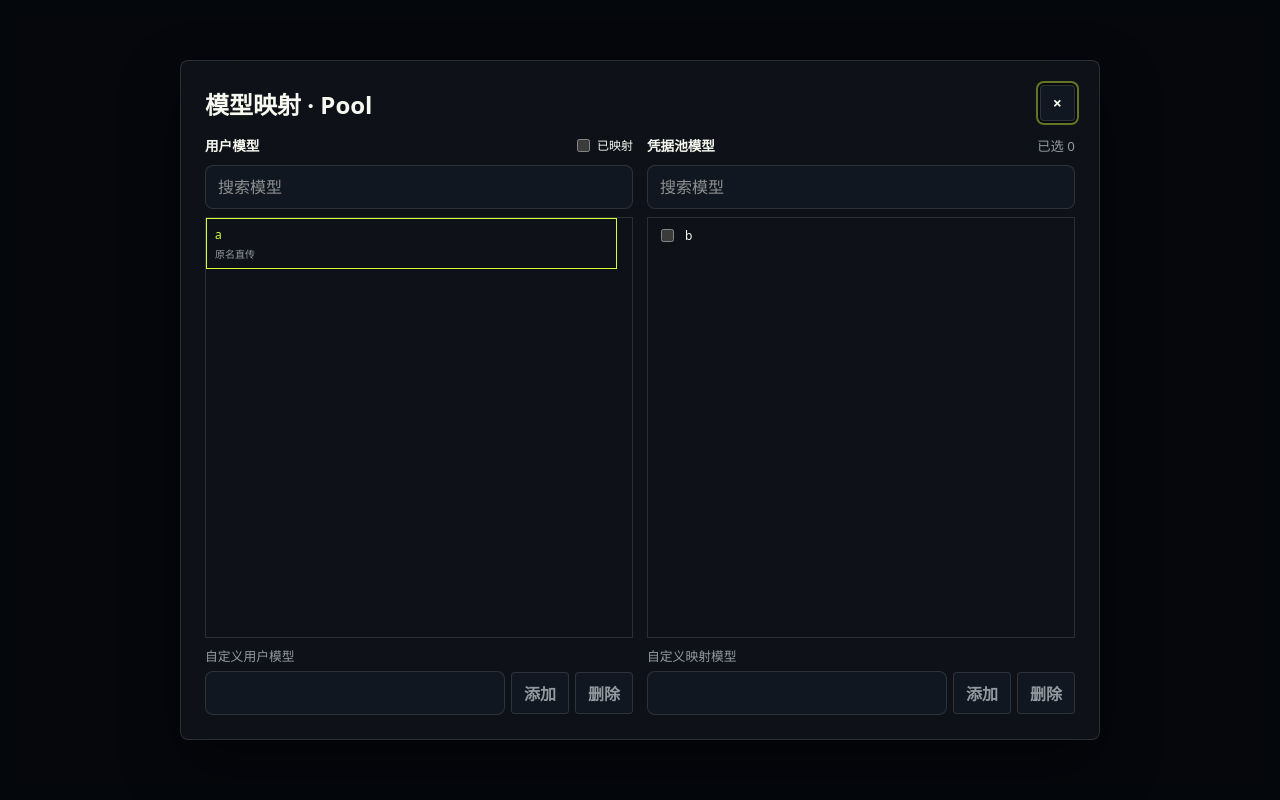
Test: adds and deletes custom mappings inline without a save button or mount-time writes
In the field named "自定义用户模型": [355, 693] box [205,671,505,715], type "custom-source"
Then press Enter
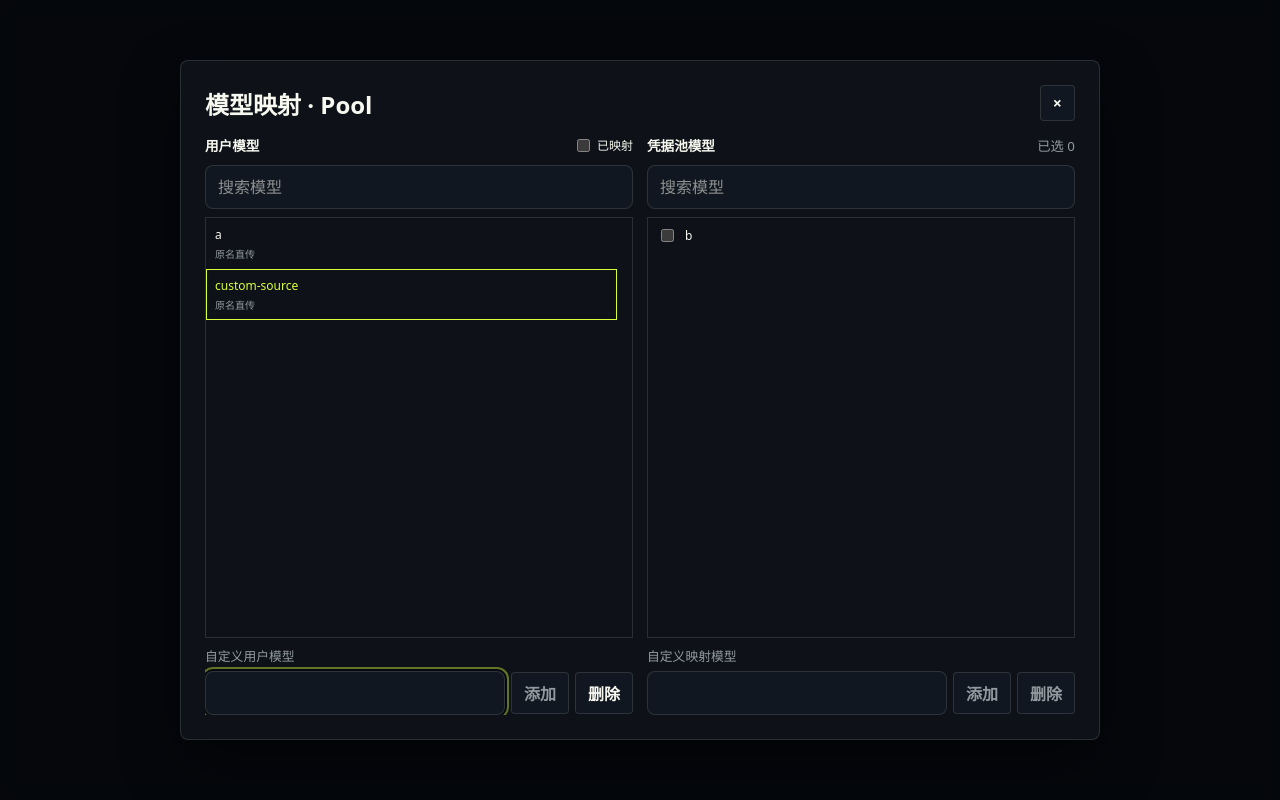
In the field named "自定义映射模型": [797, 693] box [647,671,947,715], type "custom-target"
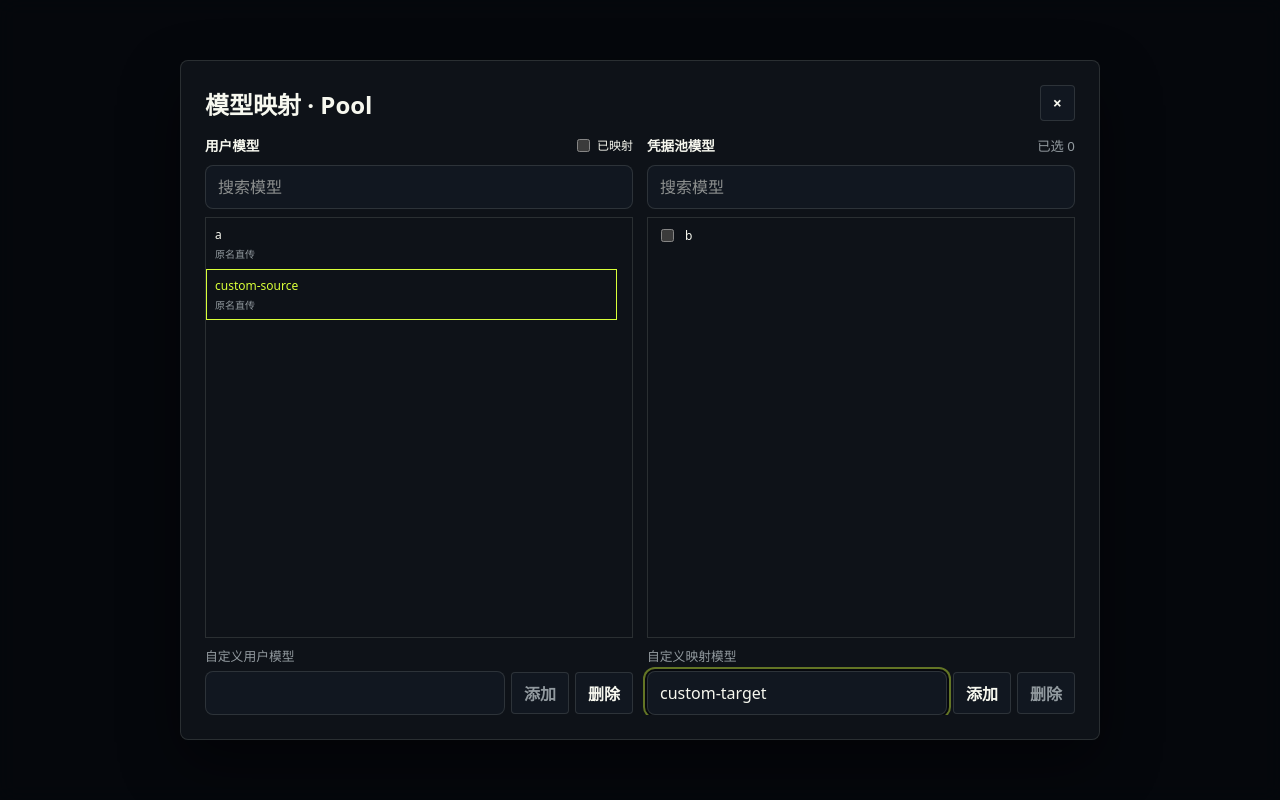
Click the button with aria-label "添加映射模型": [982, 693] box [953,672,1011,714]
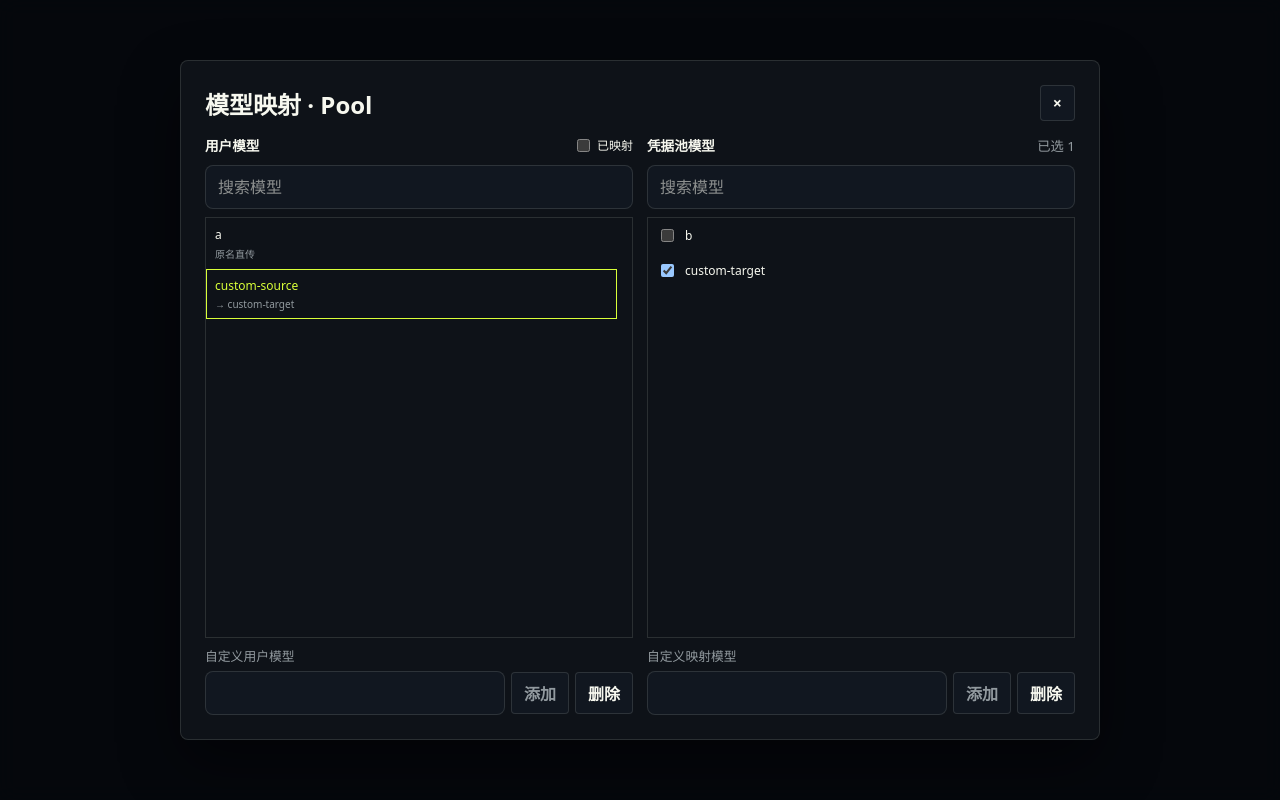
Click the button with aria-label "删除映射模型": [1046, 693] box [1017,672,1075,714]
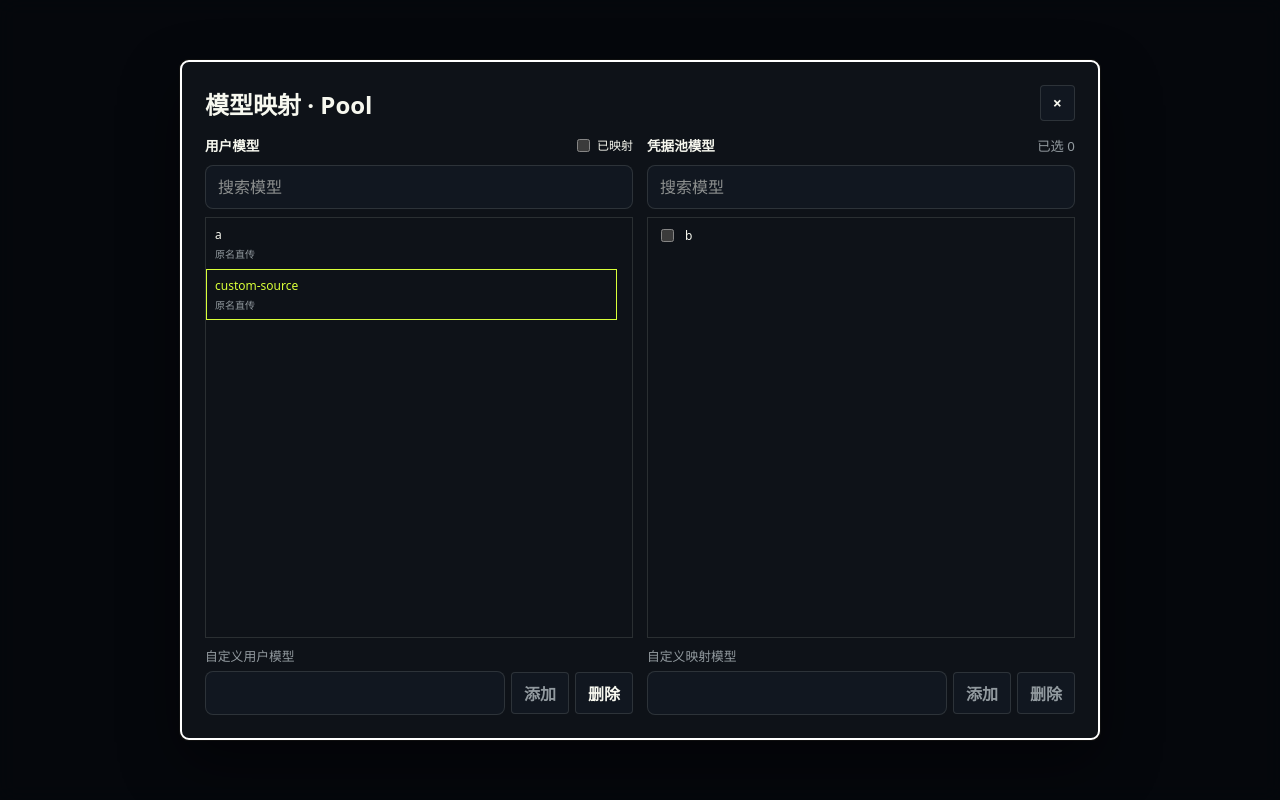
Now the button "custom-target" is gone
Click the button with aria-label "删除用户模型": [604, 693] box [575,672,633,714]
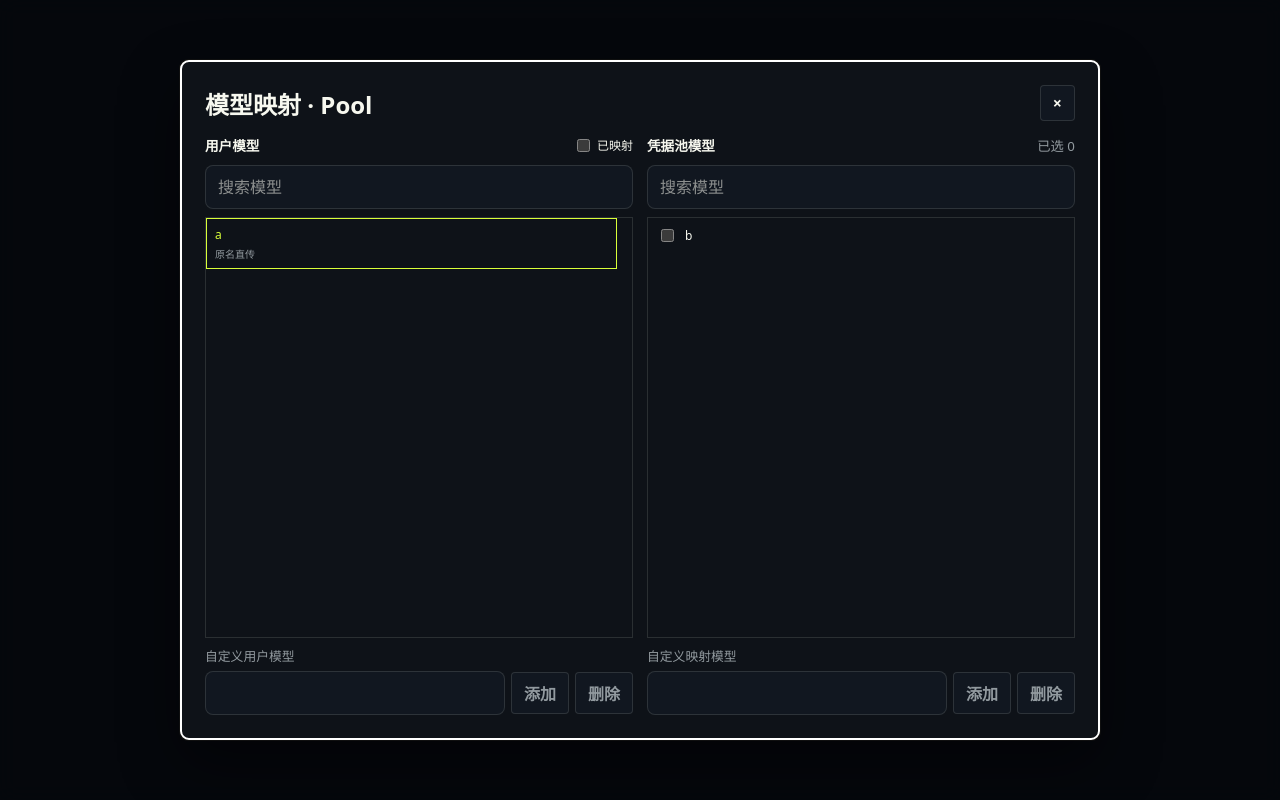
Now the button "custom-source" is gone
